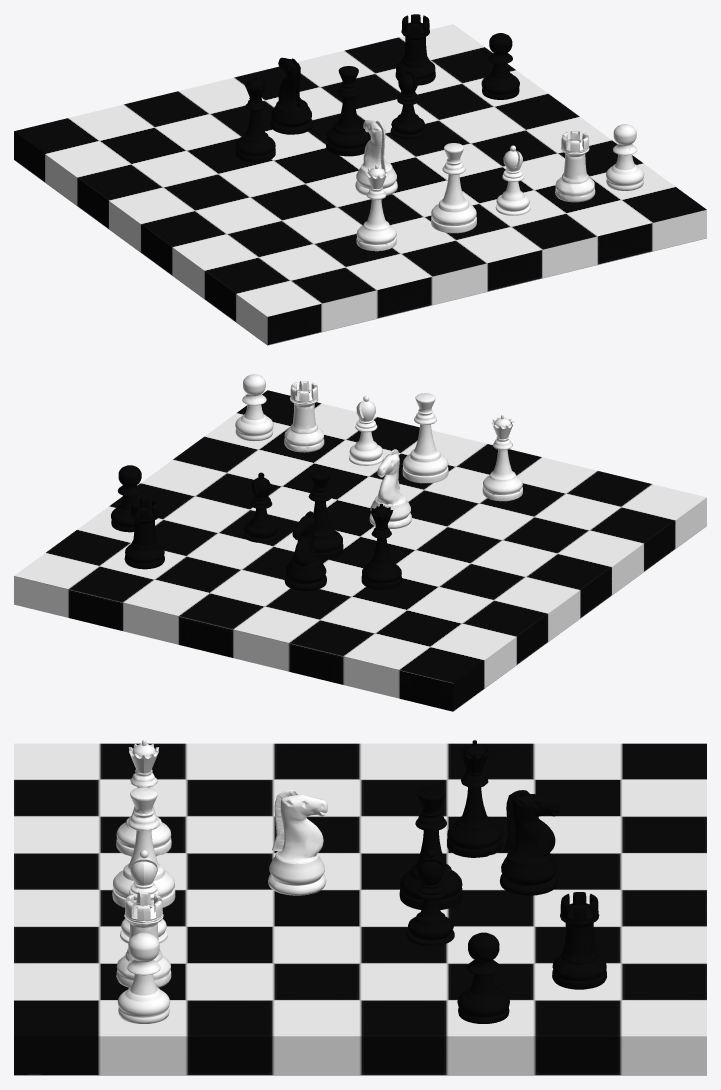
The model's file is chess.fbx.
The picture shows the model from 3 angles, top to bottom: view 1: azimuth 30°, elevation 25°; view 2: azimuth 150°, elevation 25°; view 3: azimuth 270°, elevation 25°; orthographic projection. The views are drawn at different scales.
Visible parts, largest first — view 1: pCube1, white_king, black_king, black_knight, white_rook, black_queen, white_queen, black_rook, black_pawn, white_pawn, white_knight, white_bishop (+1 smaller); view 2: pCube1, white_king, black_knight, white_rook, black_rook, white_queen, black_queen, black_king, white_knight, white_pawn, black_bishop, white_bishop (+1 smaller); view 3: pCube1, white_knight, black_knight, black_rook, black_queen, white_pawn, black_pawn, black_king, white_king, black_bishop, white_rook, white_queen (+1 smaller).
Boxes of the visible parts, bbox=[...] form: pCube1: bbox=[14, 24, 706, 345]; white_king: bbox=[431, 143, 476, 233]; black_king: bbox=[326, 66, 370, 156]; black_knight: bbox=[270, 57, 312, 134]; white_rook: bbox=[555, 131, 595, 202]; black_queen: bbox=[235, 76, 275, 162]; white_queen: bbox=[356, 165, 396, 251]; black_rook: bbox=[395, 14, 435, 85]; black_pawn: bbox=[481, 33, 519, 99]; white_pawn: bbox=[606, 124, 644, 190]; white_knight: bbox=[355, 120, 397, 195]; white_bishop: bbox=[495, 145, 530, 215]; pCube1: bbox=[14, 390, 706, 711]; white_king: bbox=[402, 393, 448, 483]; black_knight: bbox=[284, 511, 326, 590]; white_rook: bbox=[284, 381, 324, 452]; black_rook: bbox=[124, 498, 164, 569]; white_queen: bbox=[482, 415, 522, 501]; black_queen: bbox=[361, 503, 401, 589]; black_king: bbox=[297, 470, 343, 560]; white_knight: bbox=[369, 449, 411, 528]; white_pawn: bbox=[235, 374, 273, 441]; black_bishop: bbox=[243, 472, 278, 542]; white_bishop: bbox=[349, 395, 383, 465]; pCube1: bbox=[14, 743, 706, 1075]; white_knight: bbox=[268, 790, 327, 895]; black_knight: bbox=[500, 790, 559, 895]; black_rook: bbox=[552, 892, 606, 989]; black_queen: bbox=[447, 740, 502, 857]; white_pawn: bbox=[117, 932, 170, 1023]; black_pawn: bbox=[457, 932, 509, 1023]; black_king: bbox=[399, 787, 462, 909]; white_king: bbox=[112, 787, 175, 907]; black_bishop: bbox=[407, 850, 454, 945]; white_rook: bbox=[116, 892, 171, 987]; white_queen: bbox=[116, 740, 171, 856].
Bounding box in the file's own units: 16 × 3.75 × 16.
3 materials, 1 textured.
